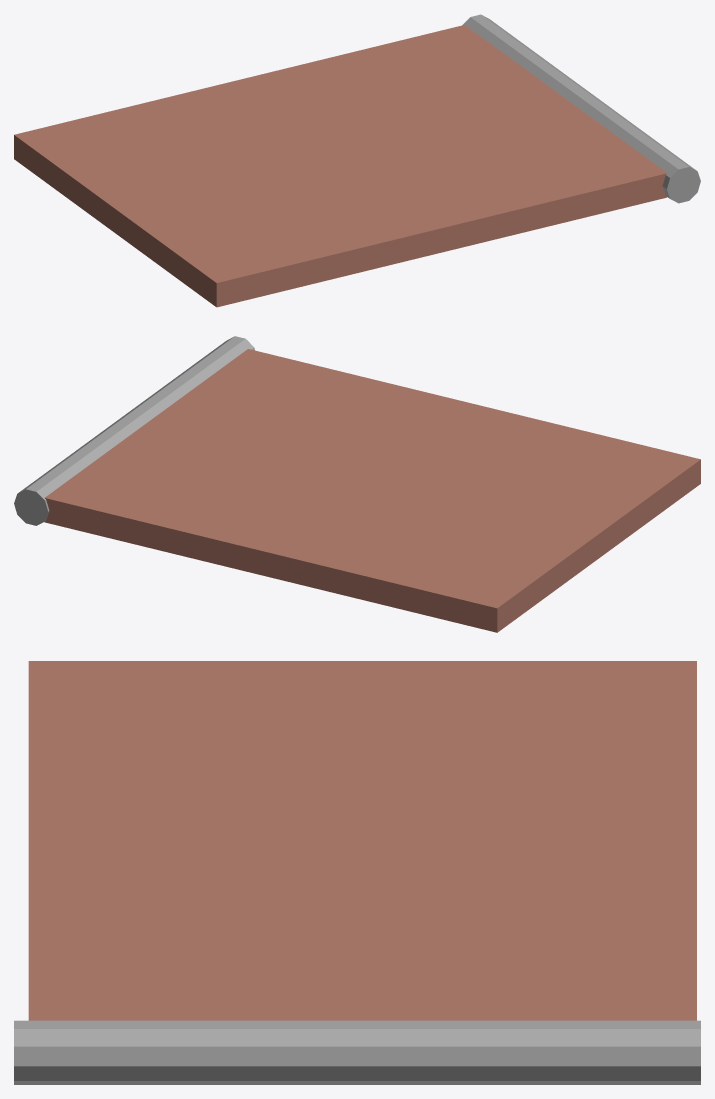
File: Springboard_model+animation.fbx
3 views of the same model, one above another, from view 1: azimuth 30°, elevation 25°; view 2: azimuth 150°, elevation 25°; view 3: azimuth 270°, elevation 25° (orthographic). The views are drawn at different scales.
Parts seen in each view (by area): view 1: pCube16, pCylinder5; view 2: pCube16, pCylinder5; view 3: pCube16, pCylinder5.
Boxes of the visible parts, x1=… form: pCube16: x1=14, y1=25, x2=667, y2=307; pCylinder5: x1=462, y1=14, x2=700, y2=203; pCube16: x1=44, y1=349, x2=700, y2=632; pCylinder5: x1=14, y1=336, x2=254, y2=525; pCube16: x1=28, y1=661, x2=696, y2=1020; pCylinder5: x1=14, y1=1020, x2=700, y2=1084.
Size of the model in its own units: 3.53 by 0.2385 by 2.66.
